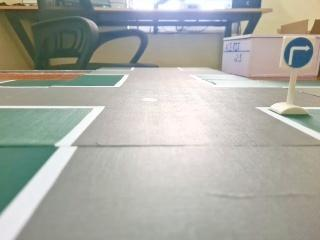right: (283, 34, 316, 71)
